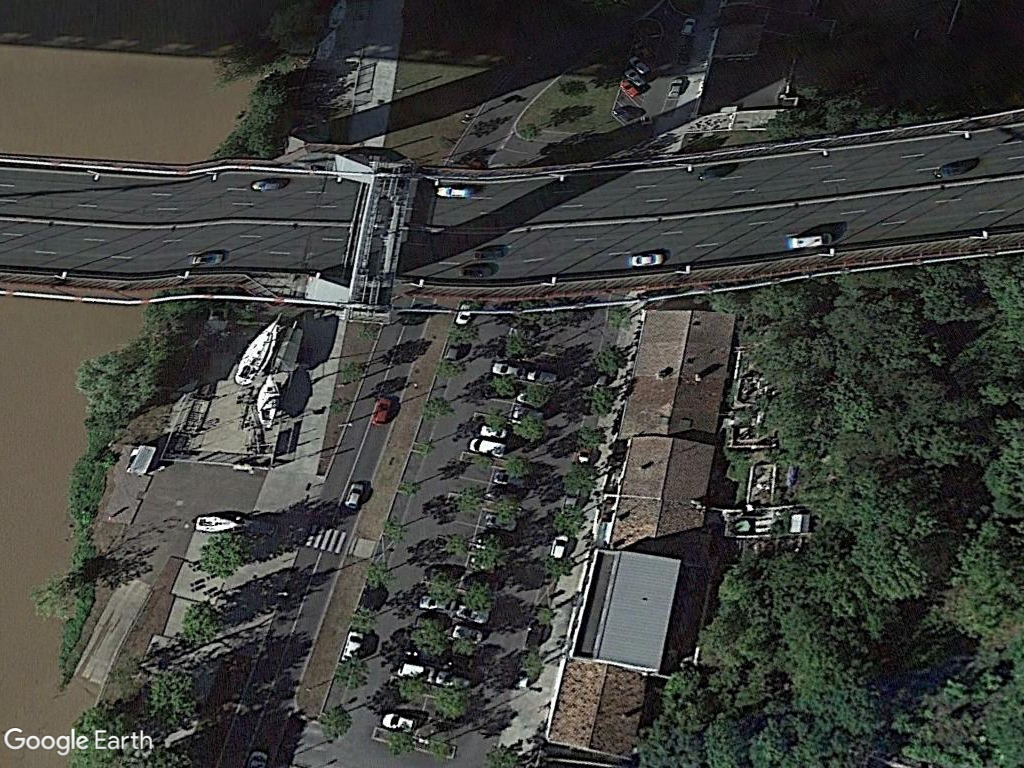car: (344, 473, 364, 514)
van: (467, 435, 512, 459)
